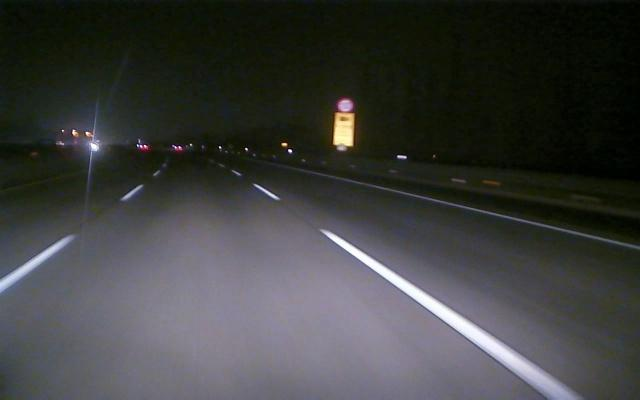lane: (252, 181, 582, 397), (351, 180, 640, 251), (1, 179, 150, 293)
